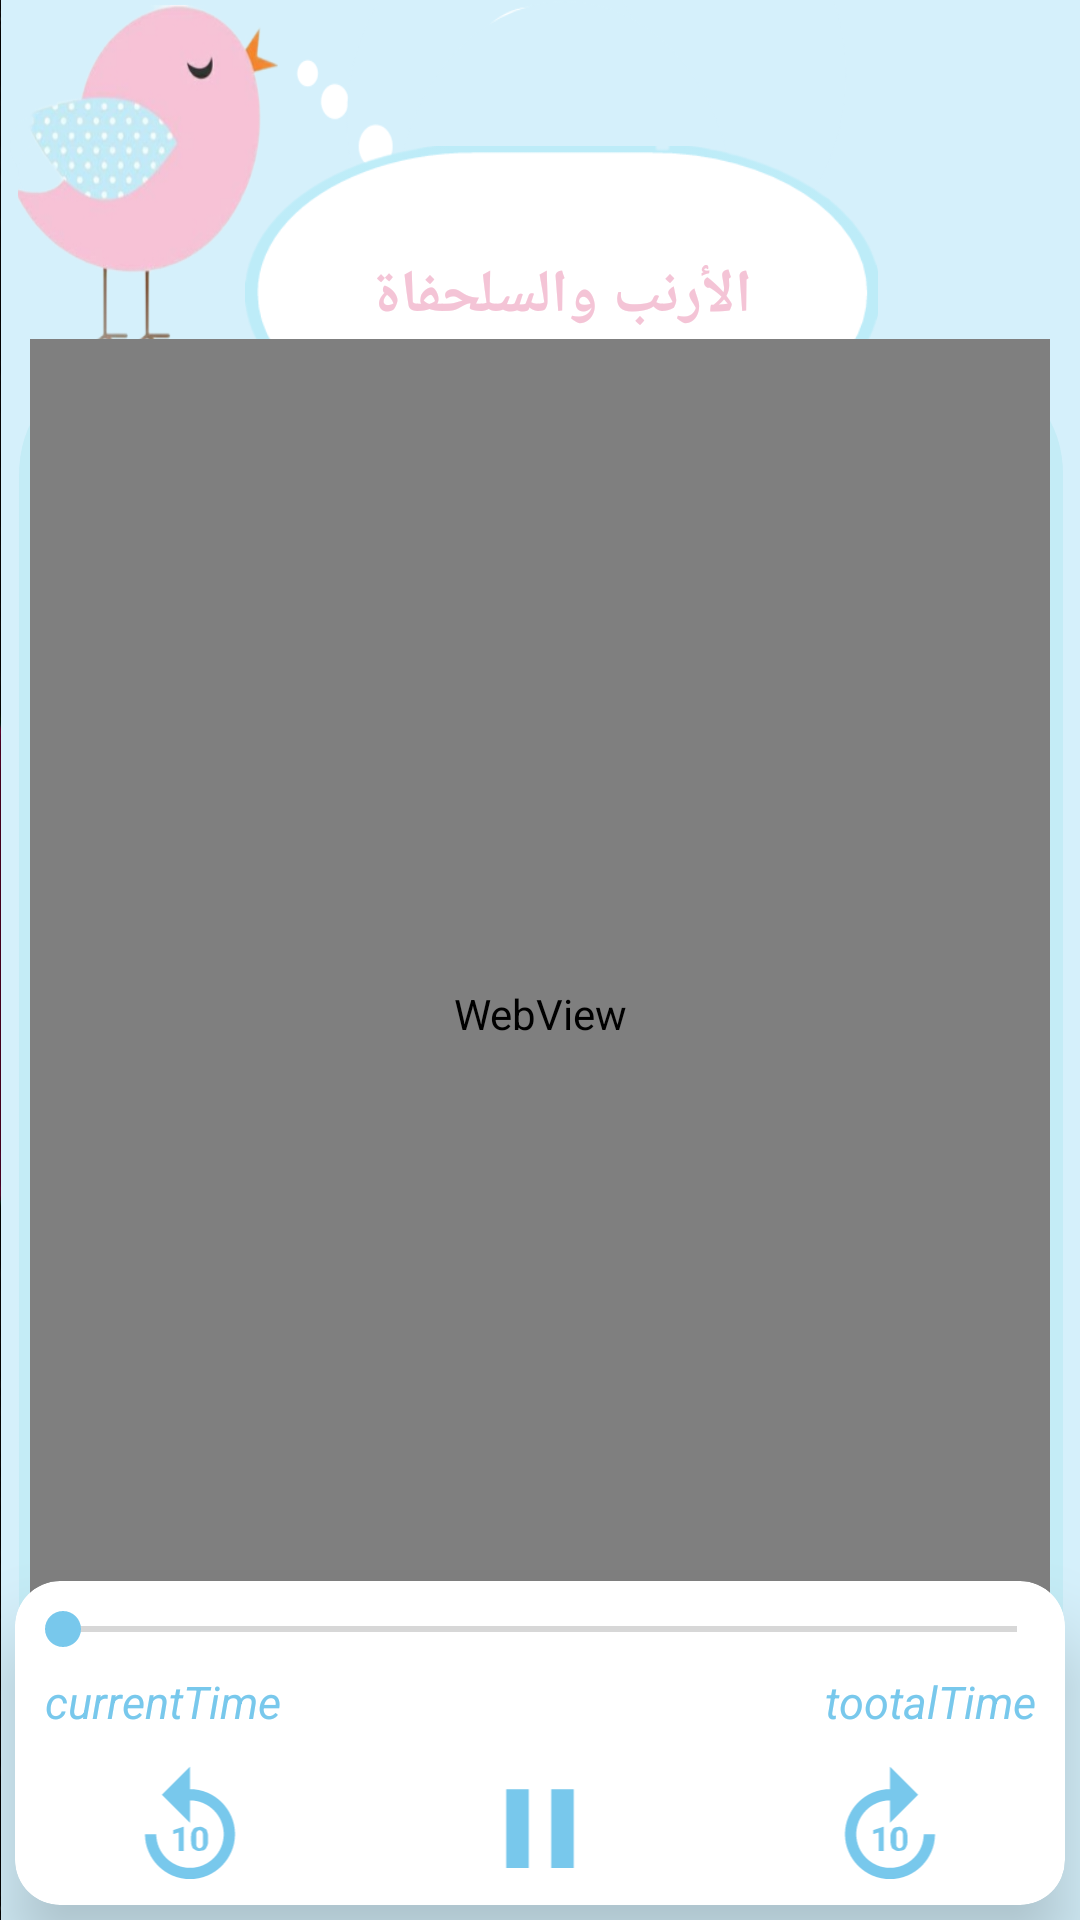

Screen size 1080w x 1920h. Icon name, then its box in pixels as (x1,y1,x2,y2):
forward: (844,1767,936,1879)
pause: (506,1789,574,1868)
replay: (144,1767,236,1879)
